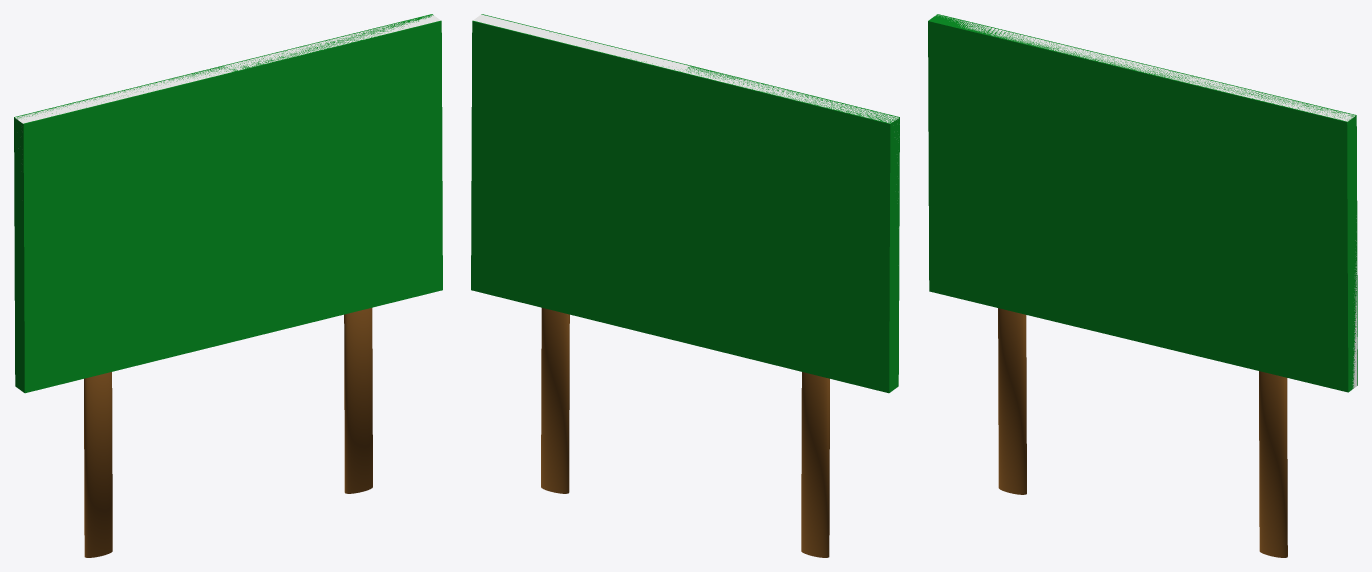
Rendered from kanban4.fbx.
3 views of the same model, side by side, from view 1: azimuth 30°, elevation 25°; view 2: azimuth 150°, elevation 25°; view 3: azimuth 330°, elevation 25° (orthographic).
Parts seen in each view (by area): view 1: TemothiKanban; view 2: TemothiKanban; view 3: TemothiKanban.
Boxes of the visible parts, x1,y1,x2,y2 form: TemothiKanban: (14,14,442,557); TemothiKanban: (471,14,899,557); TemothiKanban: (928,14,1357,557).
Size of the model in its own units: 113 by 117 by 4.49.
2 materials, 1 textured.
